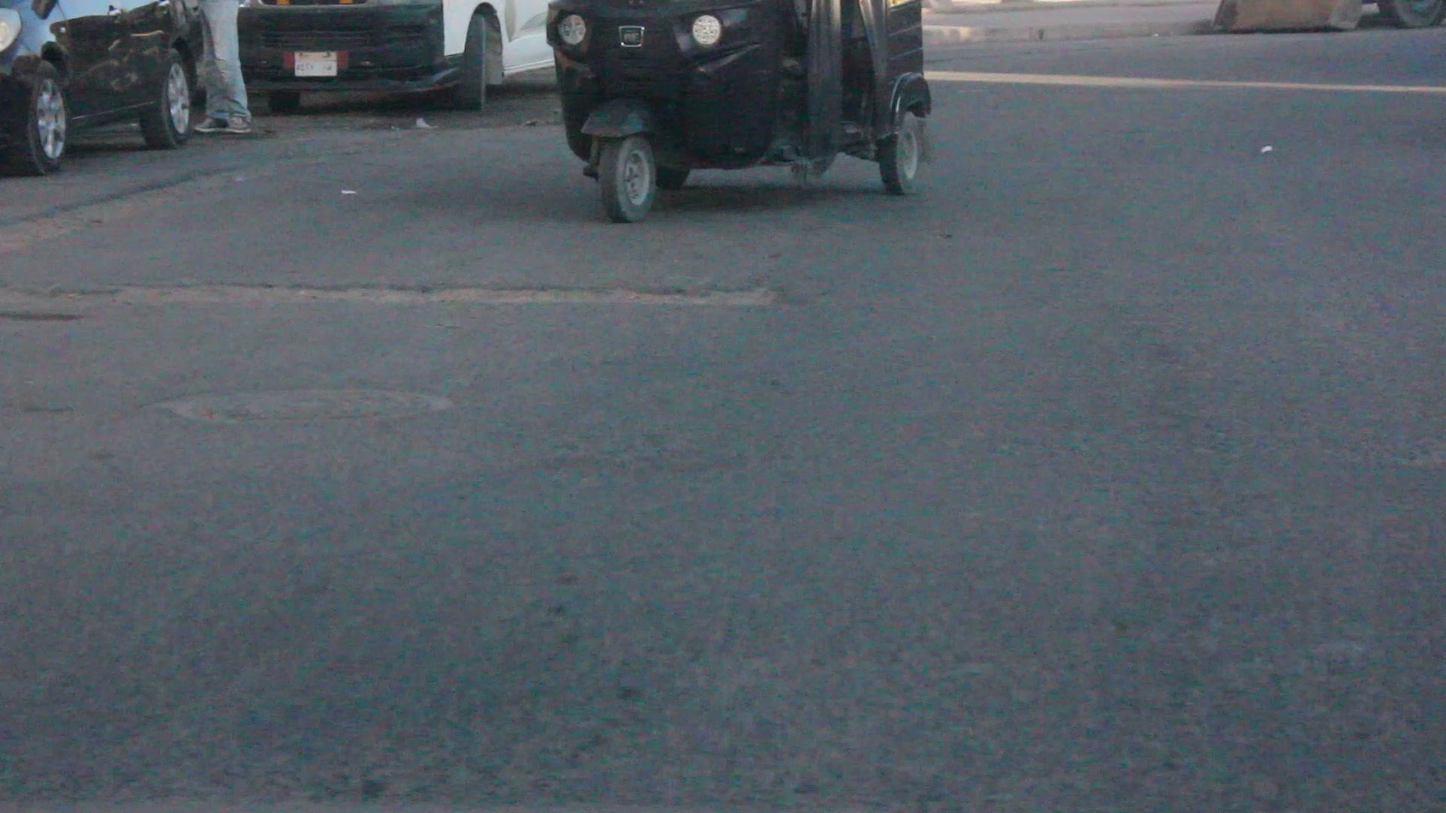Pothole: (17, 267, 808, 344)
